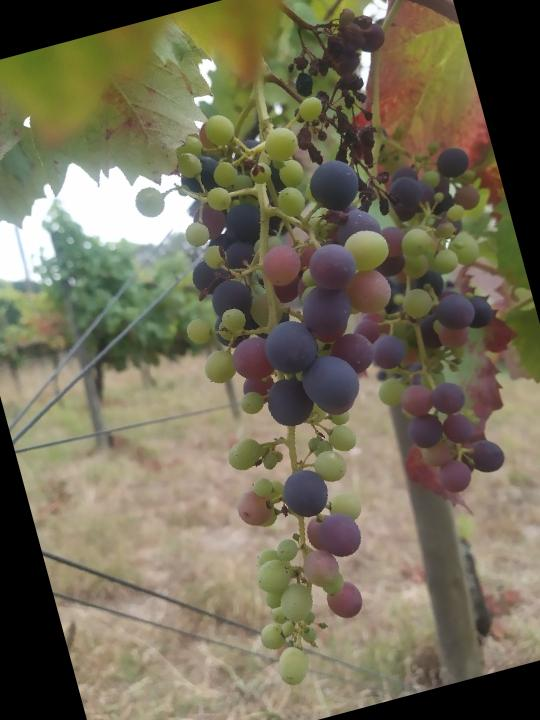grape: (112, 58, 492, 697), (322, 141, 540, 509), (269, 2, 433, 239)
